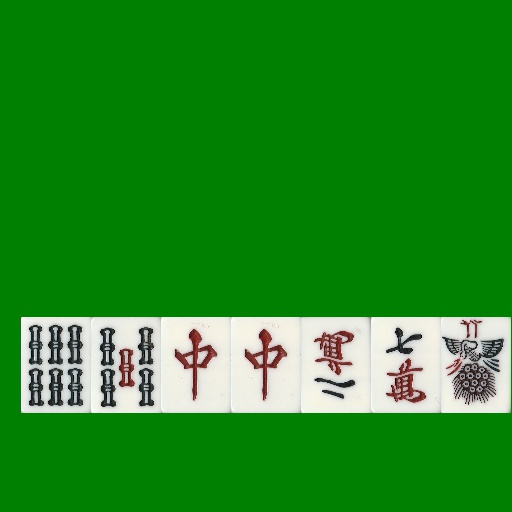1s: (441, 317, 511, 413)
2m: (301, 317, 371, 413)
5s: (91, 317, 161, 413)
6s: (21, 317, 91, 413)
7m: (371, 317, 441, 413)
tyun: (161, 317, 231, 413), (231, 317, 301, 413)
